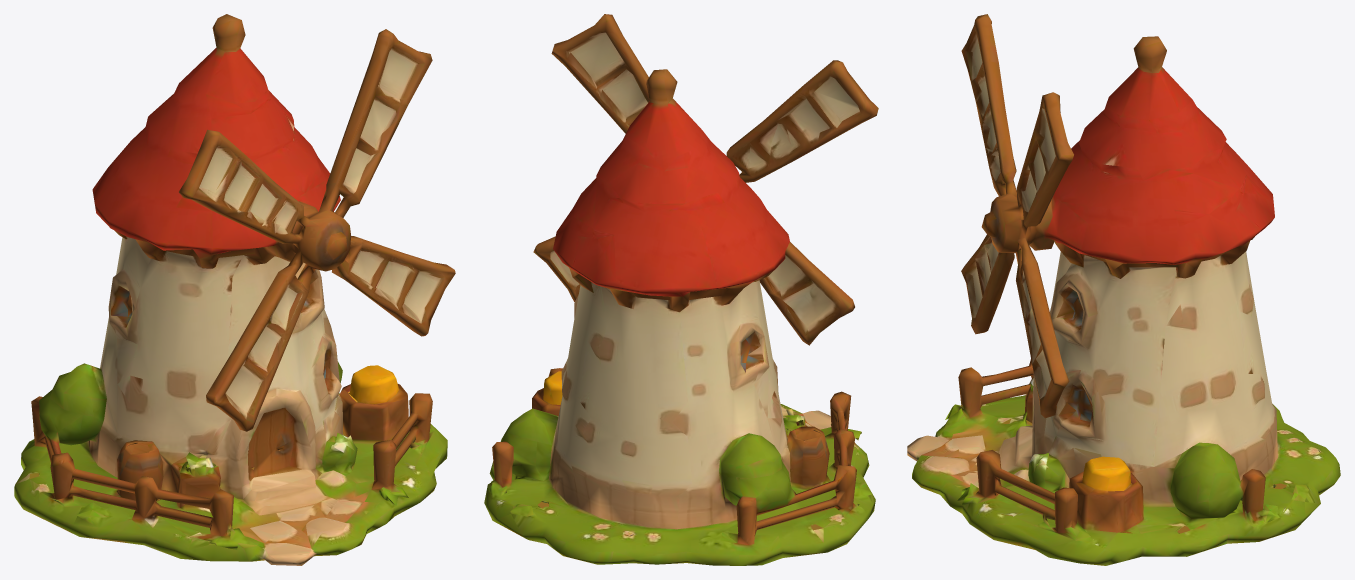
3 renders of one model, left to right at view 1: azimuth 30°, elevation 25°; view 2: azimuth 150°, elevation 25°; view 3: azimuth 270°, elevation 25°, orthographic. The views are drawn at different scales.
Parts seen in each view (by area): view 1: windmill; view 2: windmill; view 3: windmill.
Boxes of the visible parts, x1,y1,x2,y2 form: windmill: (14, 14, 455, 565); windmill: (484, 14, 878, 565); windmill: (907, 14, 1340, 565).
Bounding box in the file's own units: 8.13 × 8.97 × 7.98.
1 material, 1 textured.
